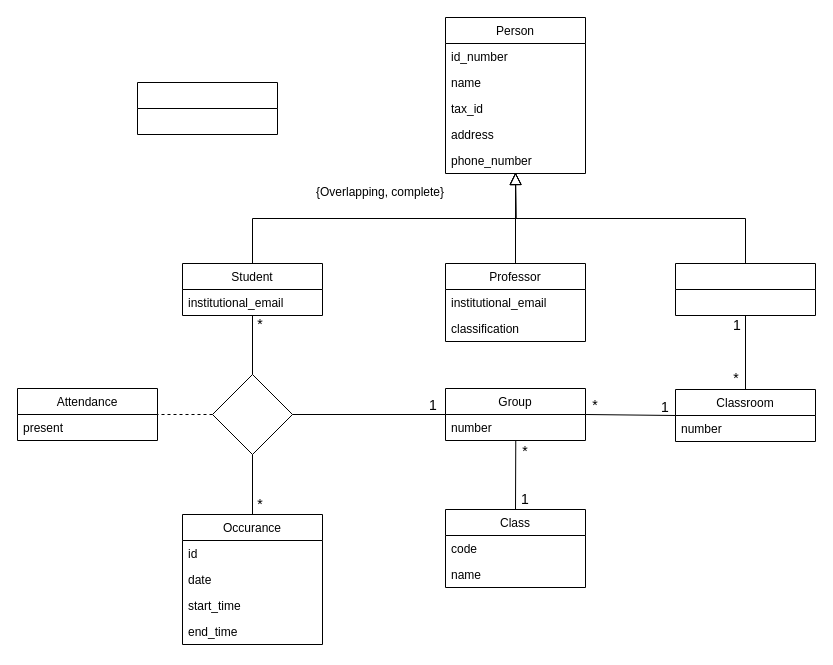
This 833x665 diagram has some shape labels left out. Each missing label, with the centre of its shape:
"Enrollment List" goes at pixel 207 108.
"Janitor" goes at pixel 745 289.
